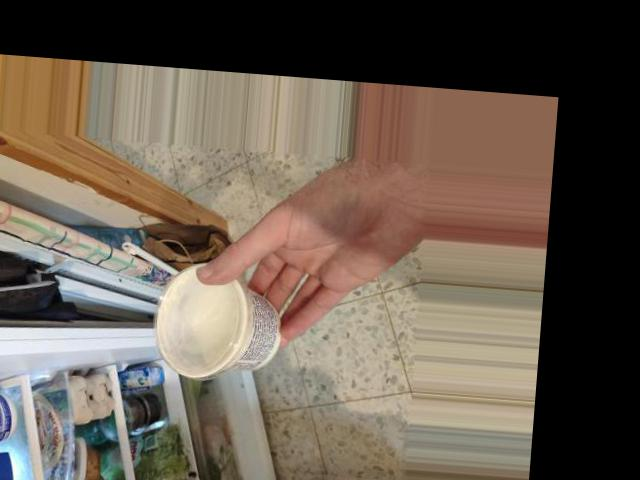cotage: (156, 274, 283, 381)
